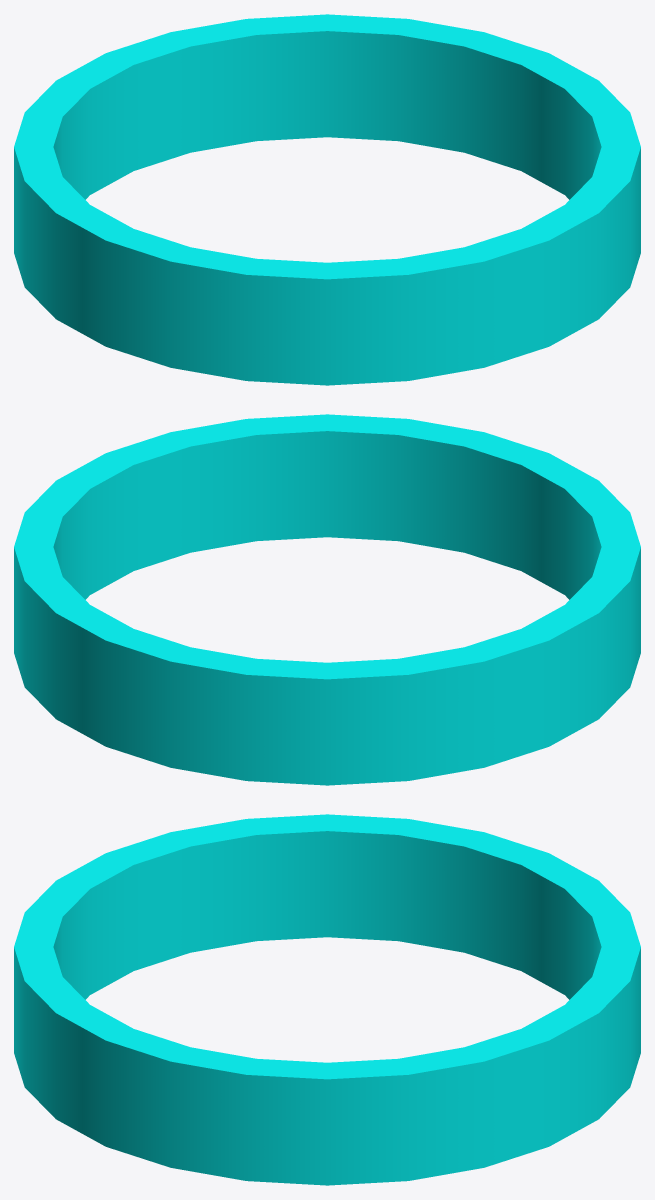
The model's file is ConeBase-2-8-3.fbx.
3 renders of one model, top to bottom at view 1: azimuth 30°, elevation 25°; view 2: azimuth 150°, elevation 25°; view 3: azimuth 270°, elevation 25°, orthographic.
Parts seen in each view (by area): view 1: Model; view 2: Model; view 3: Model.
Part boxes in pixels (x1=…): Model: x1=14, y1=14, x2=640, y2=385; Model: x1=14, y1=414, x2=640, y2=785; Model: x1=14, y1=814, x2=640, y2=1185.
Bounding box in the file's own units: 6.32 × 1.18 × 6.32.
